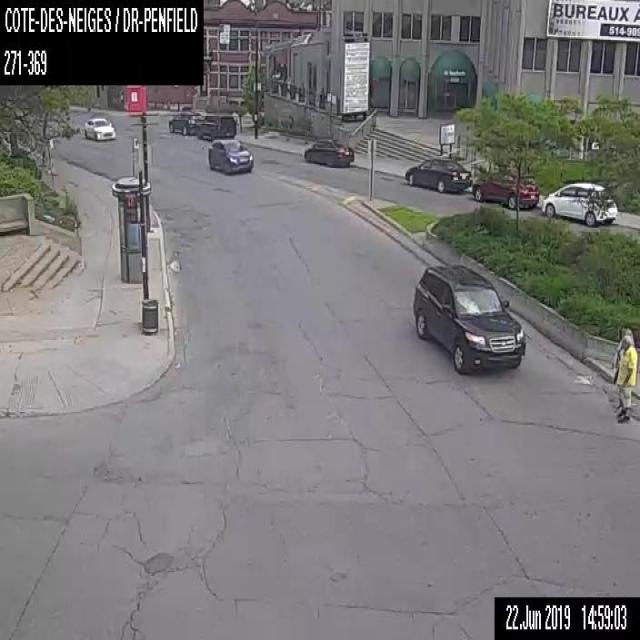pedestrian: (610, 326, 633, 414), (615, 336, 637, 422)
vehicle: (410, 262, 526, 374), (541, 179, 617, 225), (472, 168, 538, 208), (404, 156, 472, 192), (207, 137, 254, 173), (302, 136, 354, 167), (194, 113, 236, 138), (168, 110, 203, 134), (83, 116, 115, 140)
